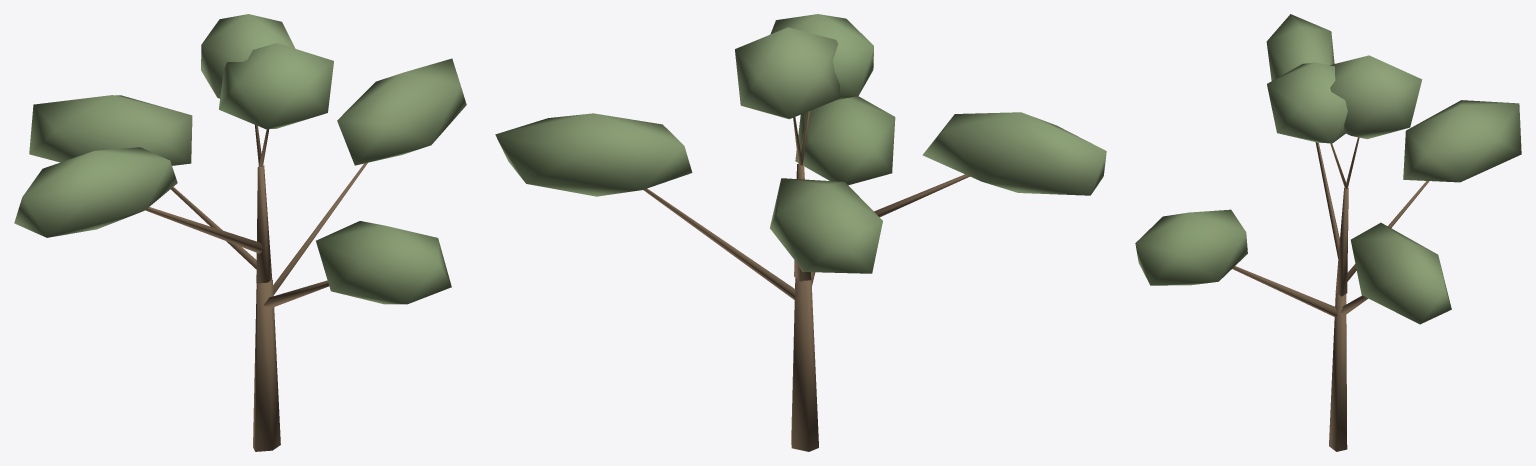
Rendered from acacia_far.glb.
The picture shows the model from 3 angles, left to right: view 1: azimuth 30°, elevation 25°; view 2: azimuth 150°, elevation 25°; view 3: azimuth 270°, elevation 25°; orthographic projection. The views are drawn at different scales.
Parts seen in each view (by area): view 1: acacia_far; view 2: acacia_far; view 3: acacia_far.
Part boxes in pixels (x1=…): acacia_far: x1=14, y1=14, x2=466, y2=451; acacia_far: x1=495, y1=14, x2=1106, y2=451; acacia_far: x1=1135, y1=14, x2=1521, y2=451.
Bounding box in the file's own units: 14.8 × 11.6 × 10.4.
